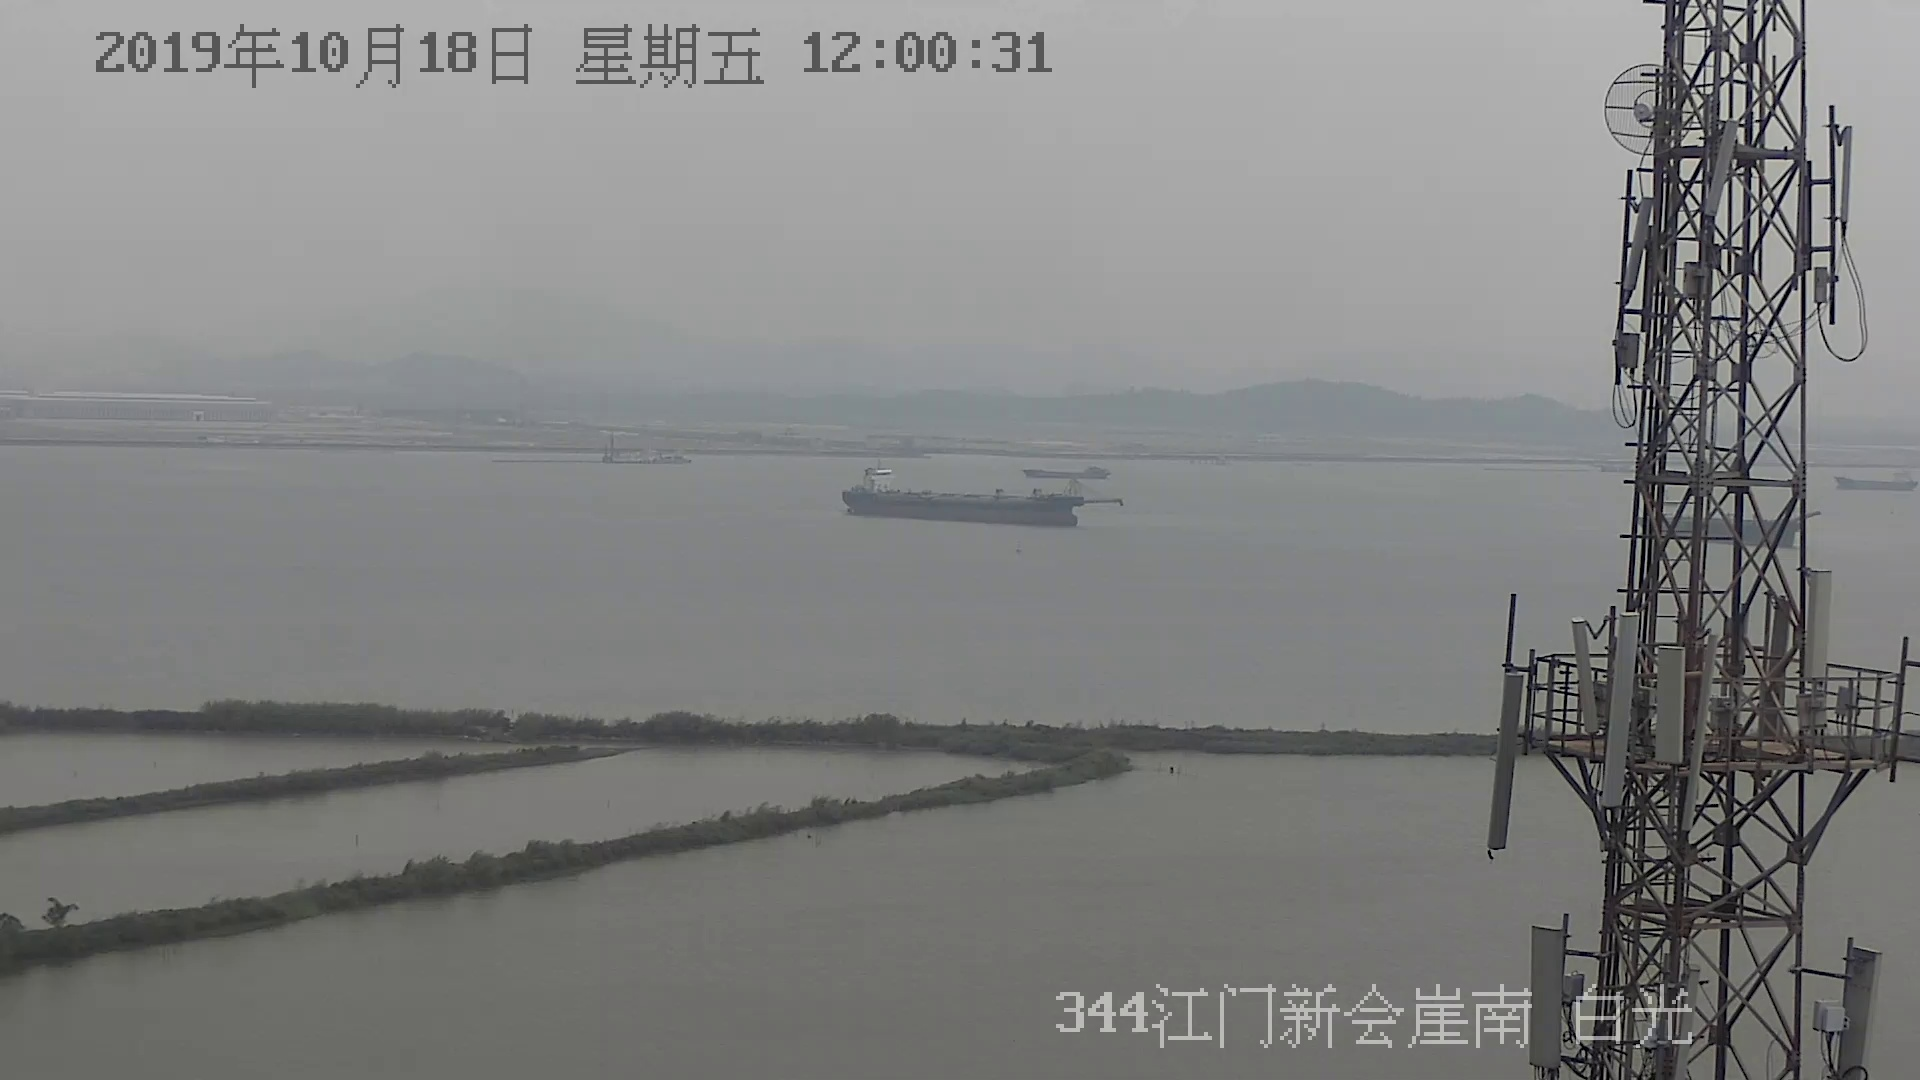ship: (851, 465, 1088, 524)
